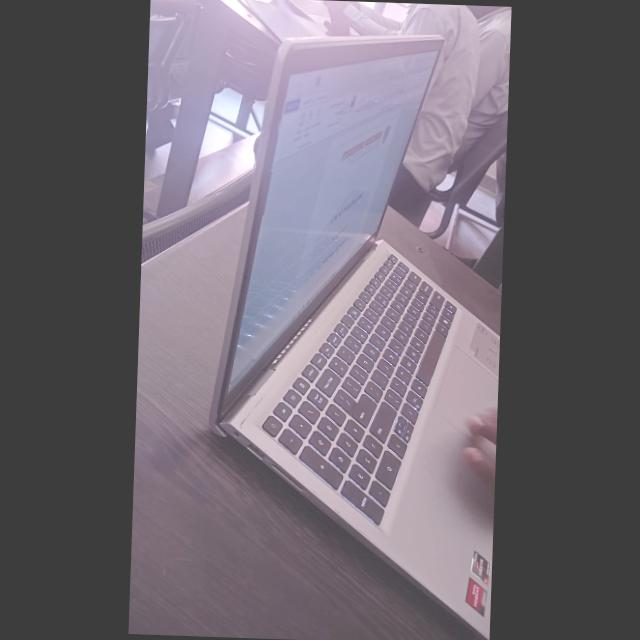laptop: (133, 32, 476, 520)
